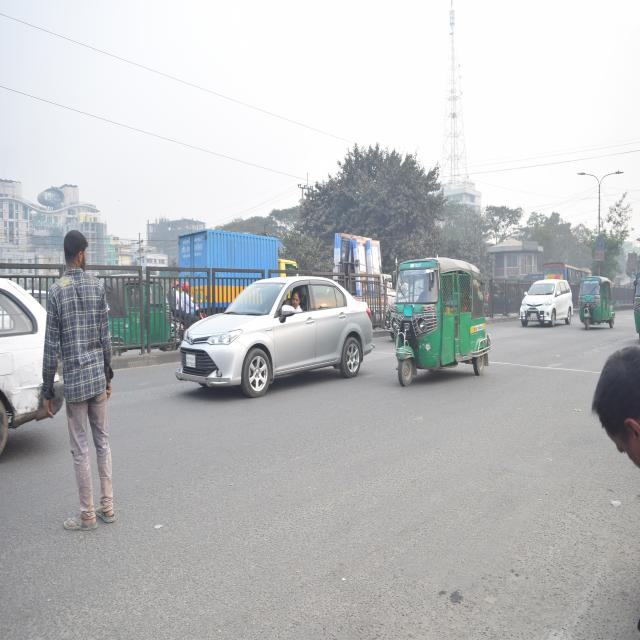car: (188, 272, 366, 395), (0, 267, 63, 453), (517, 270, 571, 330)
pickup-van: (182, 221, 299, 304)
